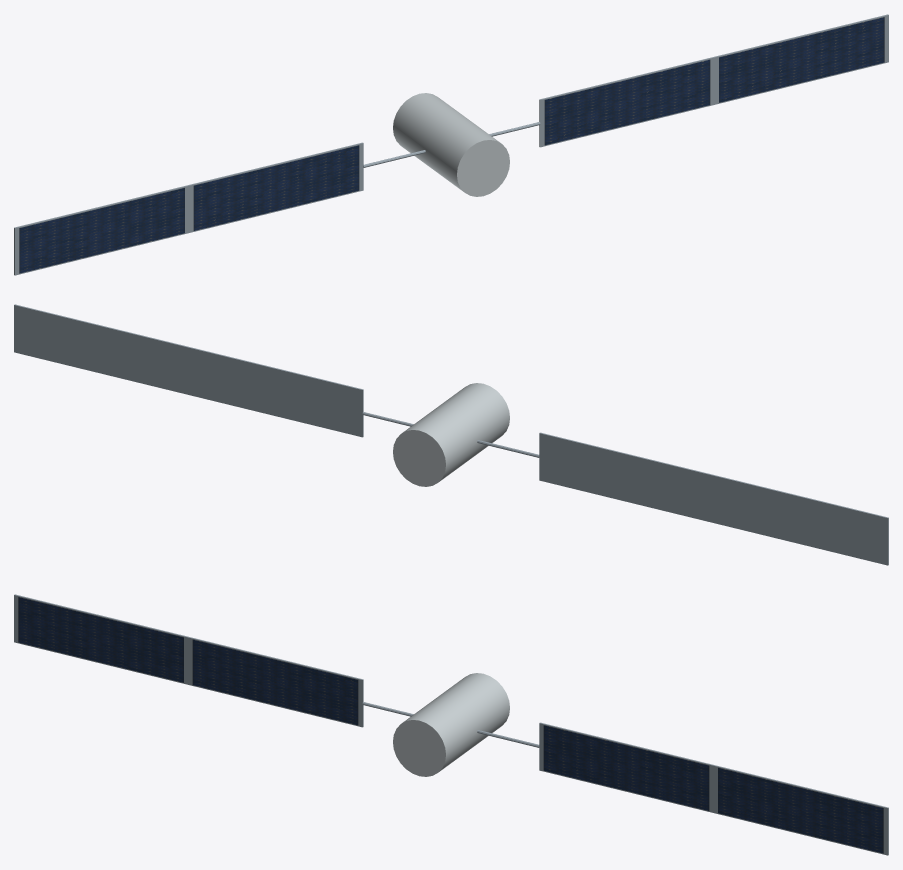
File: ref-eurostar-3000-37798.glb
3 renders of one model, top to bottom at view 1: azimuth 30°, elevation 25°; view 2: azimuth 150°, elevation 25°; view 3: azimuth 330°, elevation 25°, orthographic.
Visible parts, largest first — view 1: Photovoltaic laminates (×4), Spacecraft body, Array frame (×4); view 2: Array frame (×4), Spacecraft body; view 3: Photovoltaic laminates (×4), Spacecraft body, Array frame (×4).
Boxes of the visible parts, box(x1,y1,x2,y2) form: Photovoltaic laminates (×4): box(19, 17, 884, 273); Spacecraft body: box(393, 93, 509, 196); Array frame (×4): box(14, 14, 888, 275); Array frame (×4): box(14, 304, 888, 565); Spacecraft body: box(393, 383, 509, 486); Photovoltaic laminates (×4): box(18, 597, 883, 853); Spacecraft body: box(393, 673, 509, 776); Array frame (×4): box(14, 594, 888, 855).
Bounding box in the file's own units: 39.4 × 2.4 × 5.
Materials: 3 (1 with a texture image).
